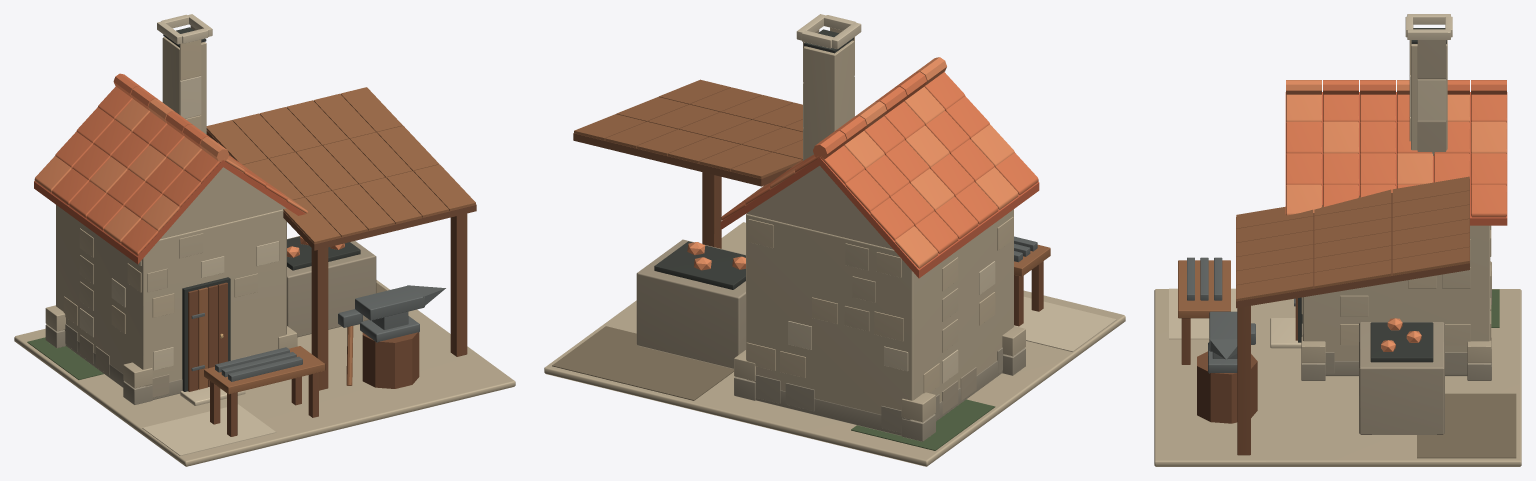
Rendered from smith.glb.
3 views of the same model, side by side, from view 1: azimuth 30°, elevation 25°; view 2: azimuth 150°, elevation 25°; view 3: azimuth 270°, elevation 25° (orthographic). The views are drawn at different scales.
Parts seen in each view (by area): view 1: smith; view 2: smith; view 3: smith.
Boxes of the visible parts, left/top/right/bottom form: smith: left=14, top=14, right=515, bottom=466; smith: left=544, top=14, right=1125, bottom=466; smith: left=1154, top=14, right=1521, bottom=466.
Size of the model in its own units: 3 by 2.75 by 2.7.
